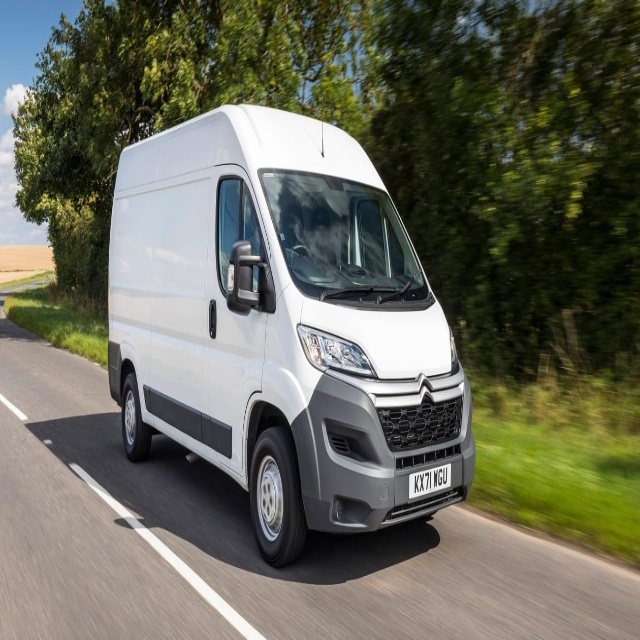Van: (107, 102, 475, 570)
